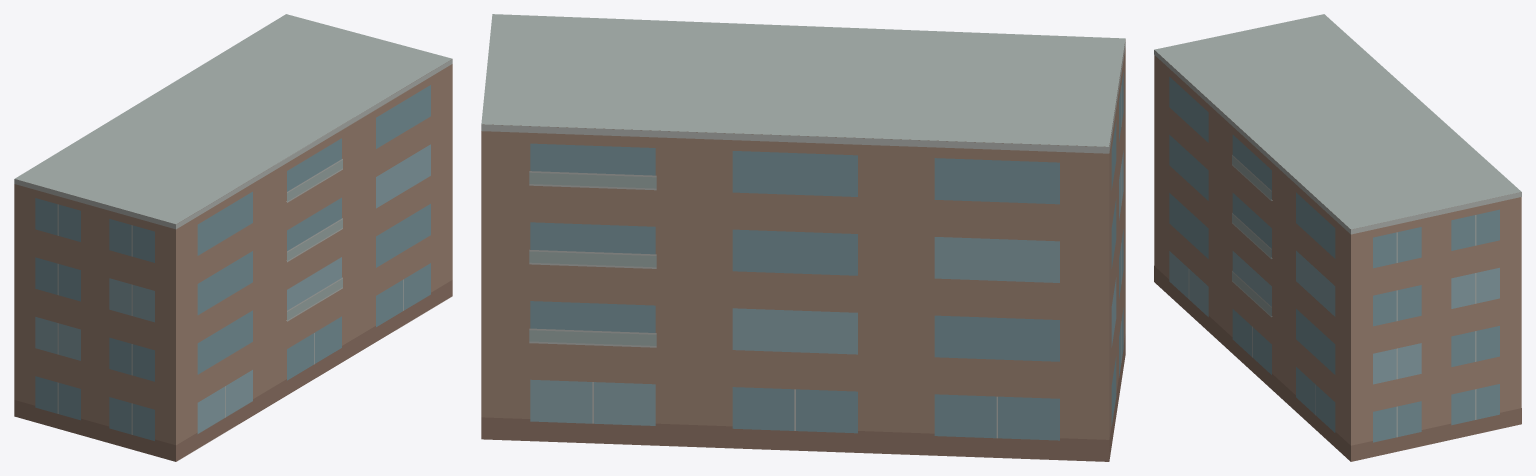
Rendered from survey-upis-32695727.glb.
3 renders of one model, left to right at view 1: azimuth 30°, elevation 25°; view 2: azimuth 150°, elevation 25°; view 3: azimuth 270°, elevation 25°, orthographic. The views are drawn at different scales.
Visible parts, largest first — view 1: survey-upis-32695727.tmp; view 2: survey-upis-32695727.tmp; view 3: survey-upis-32695727.tmp.
Part boxes in pixels (x1=…): survey-upis-32695727.tmp: x1=14, y1=14, x2=452, y2=461; survey-upis-32695727.tmp: x1=481, y1=14, x2=1125, y2=461; survey-upis-32695727.tmp: x1=1154, y1=14, x2=1521, y2=461.
Bounding box in the file's own units: 22.49 × 11.3 × 16.21.
